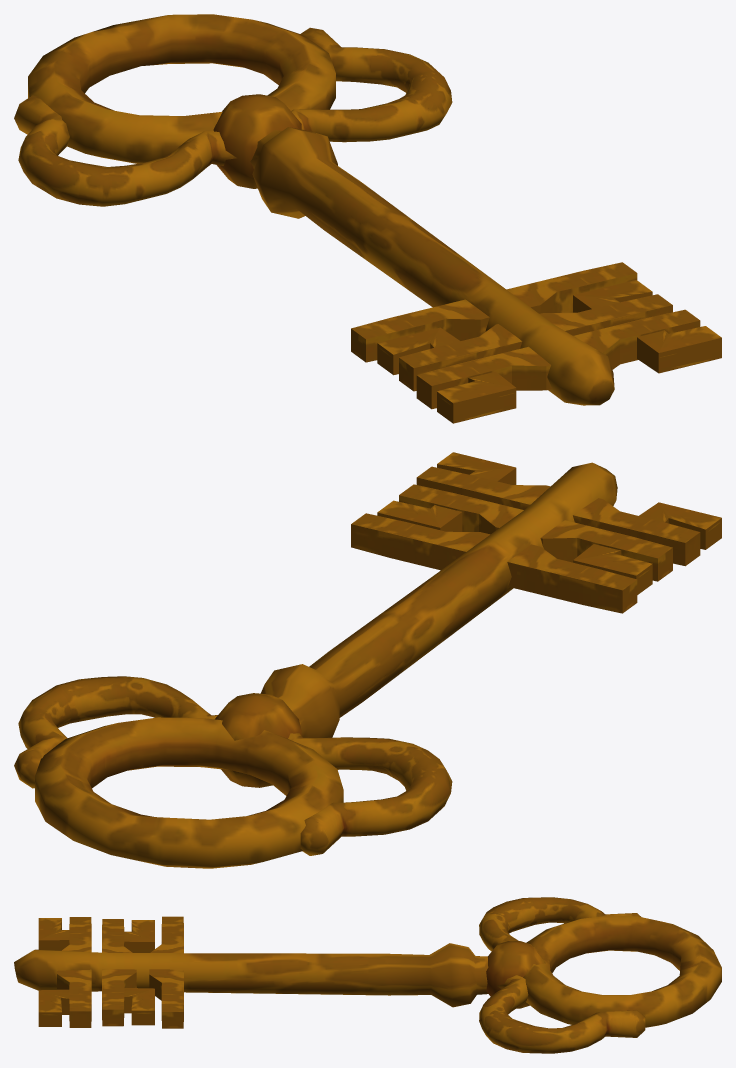
File: Key_Gold.glb
The picture shows the model from 3 angles, top to bottom: view 1: azimuth 30°, elevation 25°; view 2: azimuth 150°, elevation 25°; view 3: azimuth 270°, elevation 25°; orthographic projection. The views are drawn at different scales.
Visible parts, largest first — view 1: Key_Gold; view 2: Key_Gold; view 3: Key_Gold.
Part boxes in pixels (x1=…): Key_Gold: x1=14, y1=14, x2=721, y2=423; Key_Gold: x1=14, y1=452, x2=721, y2=868; Key_Gold: x1=14, y1=897, x2=721, y2=1053.
Size of the model in its own units: 0.0581 by 0.0123 by 0.1223.
Materials: 1 (1 with a texture image).
